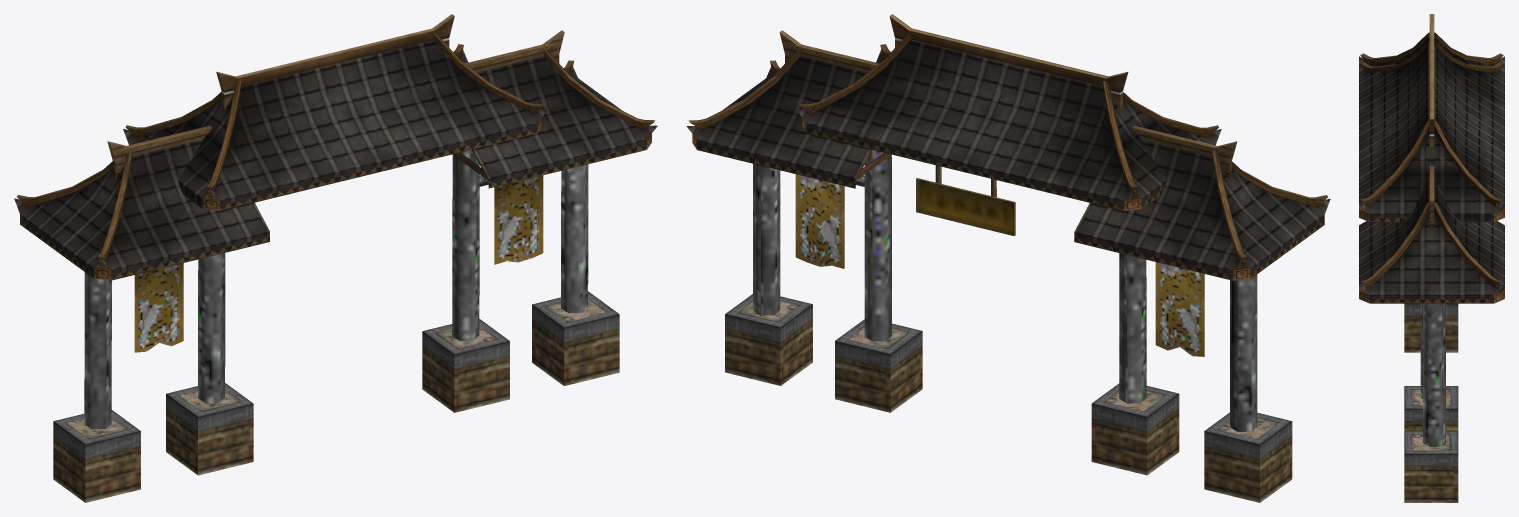
The model's file is han_temple_shrine.glb.
3 renders of one model, left to right at view 1: azimuth 30°, elevation 25°; view 2: azimuth 150°, elevation 25°; view 3: azimuth 270°, elevation 25°, orthographic. The views are drawn at different scales.
Parts seen in each view (by area): view 1: han_temple_shrine_part0; view 2: han_temple_shrine_part0; view 3: han_temple_shrine_part0.
Part boxes in pixels (x1,y1,x2,y2): han_temple_shrine_part0: (14,14,657,502); han_temple_shrine_part0: (686,14,1330,502); han_temple_shrine_part0: (1359,14,1504,502).
Bounding box in the file's own units: 3 × 1.96 × 0.8067.
Materials: 1 (1 with a texture image).
